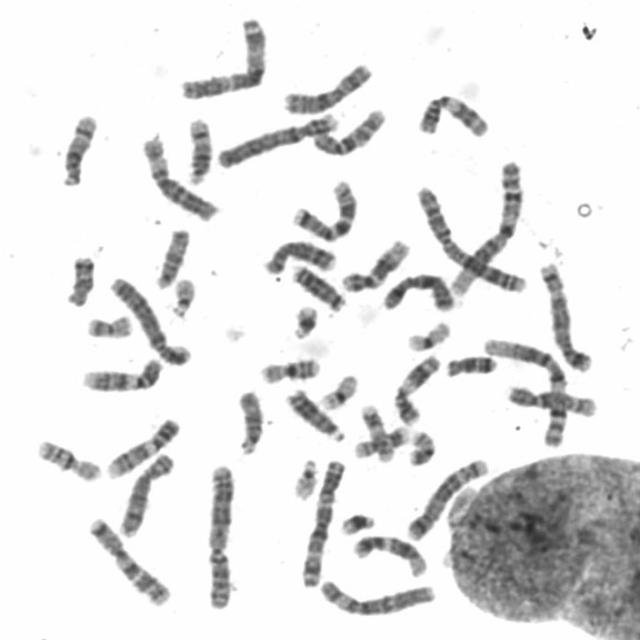A1: (444, 154, 526, 297), (476, 329, 572, 449)
A2: (410, 179, 529, 295), (199, 455, 238, 612)
A3: (172, 9, 271, 100), (295, 452, 349, 590)
B4: (102, 269, 192, 367), (211, 105, 342, 170)
B5: (399, 450, 491, 542), (534, 255, 596, 374)
C10: (306, 100, 389, 158), (501, 378, 599, 419)
C11: (387, 348, 443, 426), (411, 88, 492, 139)
C12: (335, 232, 412, 293), (346, 528, 430, 578)
C6: (135, 129, 221, 222), (312, 572, 438, 619)
C7: (81, 510, 174, 608), (285, 172, 360, 242)
C8: (112, 446, 177, 539), (256, 233, 339, 276)
C9: (100, 411, 183, 480), (76, 350, 166, 394)
D13: (281, 382, 347, 444), (286, 257, 348, 313)
D14: (54, 107, 99, 188), (180, 111, 215, 186)
D15: (148, 222, 193, 290), (231, 383, 266, 457)
E16: (30, 432, 104, 483), (254, 350, 322, 385)
E17: (355, 397, 398, 464), (348, 419, 413, 460)
E18: (59, 248, 97, 308), (439, 348, 500, 379)
F19: (313, 367, 361, 411), (401, 314, 453, 353)
F20: (80, 308, 135, 340), (402, 424, 437, 467)
G21: (285, 298, 321, 341), (334, 504, 377, 536)
G22: (286, 451, 321, 501), (165, 270, 198, 320)
X: (276, 56, 376, 116), (377, 266, 458, 314)
